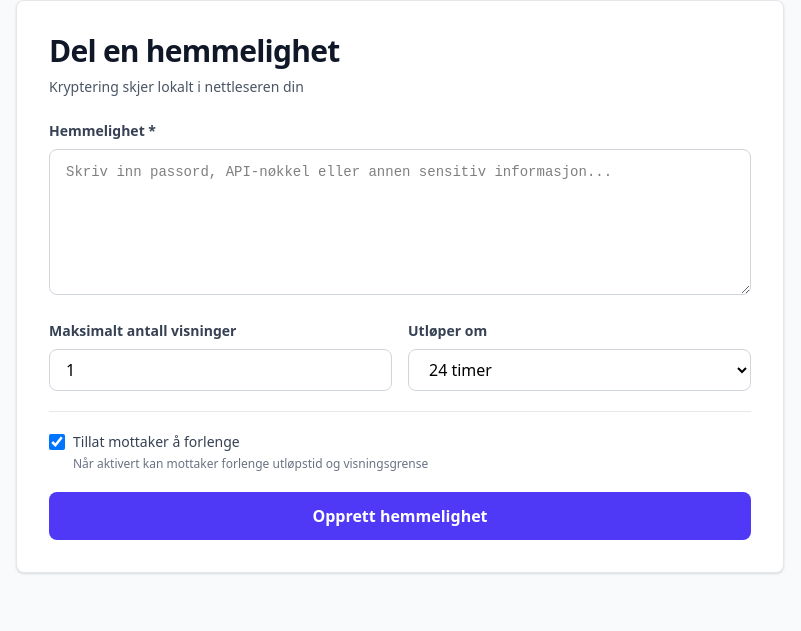
Test: CreateSecret › reset button returns to form
// Fill and submit form
Type "My secret message" into the text box labelled "Hemmelighet *".
click(400, 222); type("My secret message")  # box left=49, top=149, right=751, bottom=295
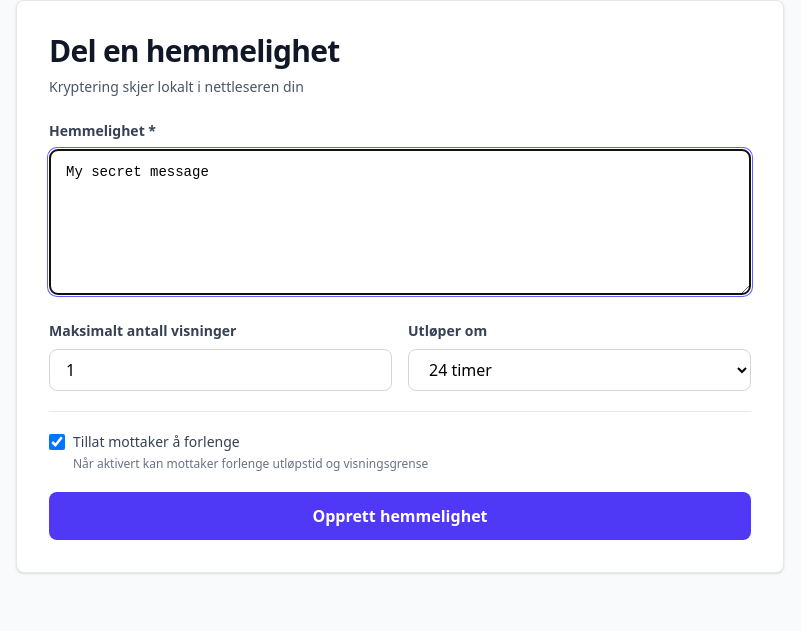
Click the button "Opprett hemmelighet".
click(400, 516)  # box left=49, top=492, right=751, bottom=540
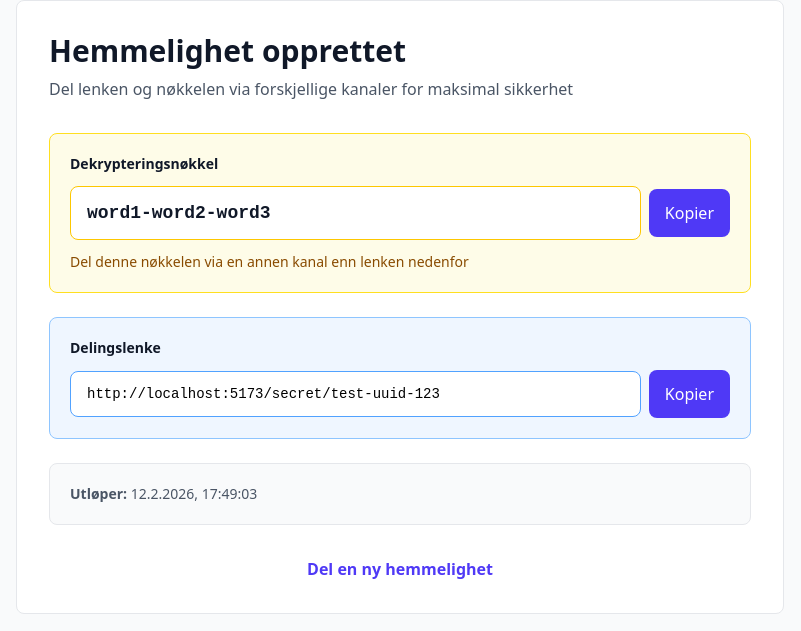
Result: the heading "Hemmelighet opprettet" is shown at left=49, top=30, right=406, bottom=71
// Click reset button
Click the button "Del en ny hemmelighet".
click(400, 569)  # box left=307, top=557, right=493, bottom=581
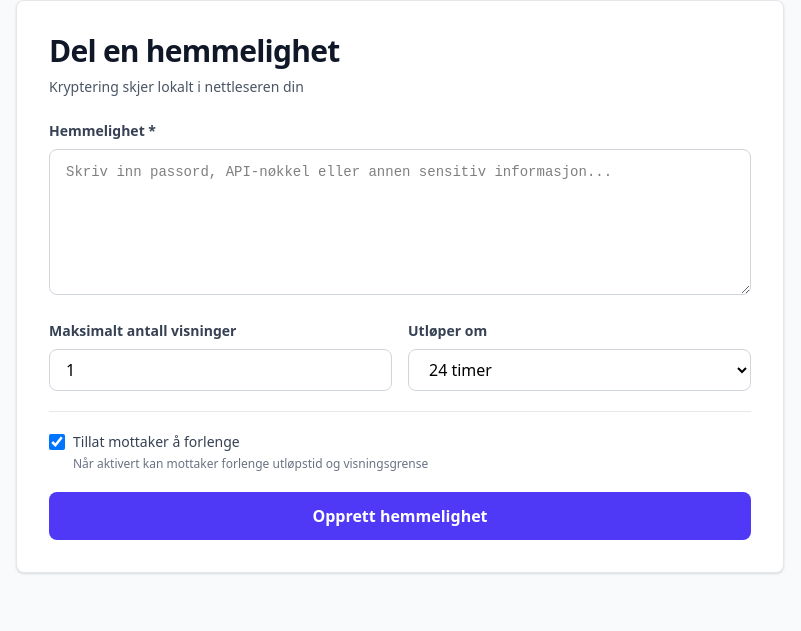
Result: the heading "Del en hemmelighet" is shown at left=49, top=30, right=340, bottom=71
Result: the text box labelled "Hemmelighet *" is shown at left=49, top=149, right=751, bottom=295
